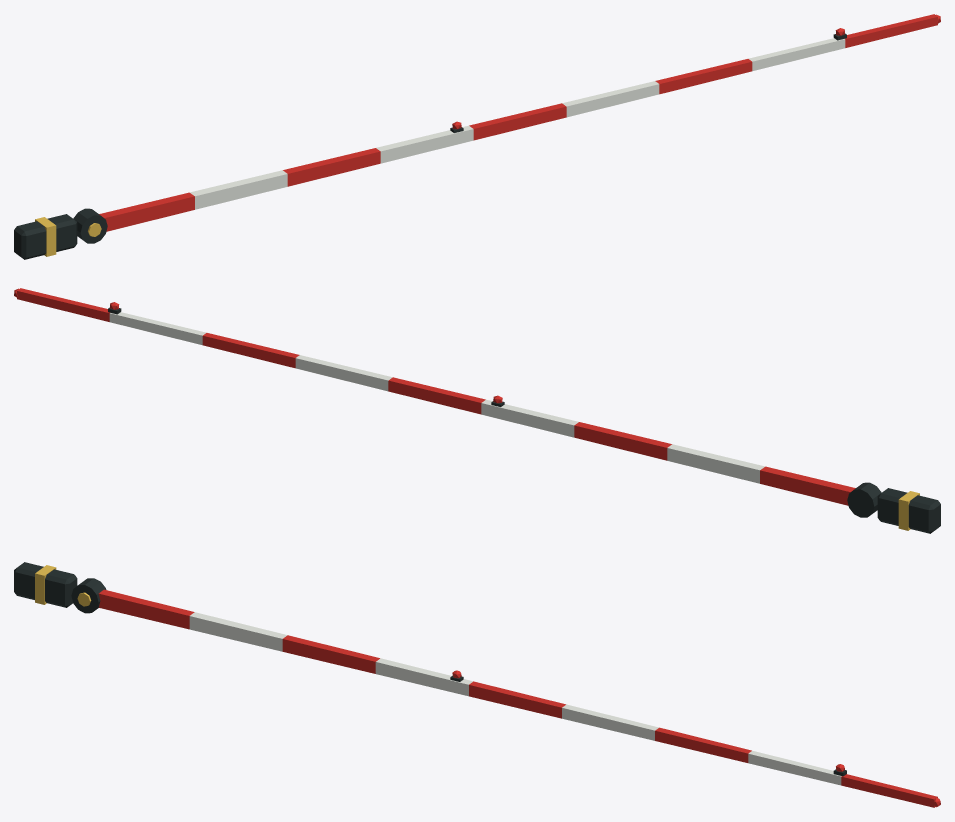
Rendered from sm_env_rail_barrier_arm.glb.
3 renders of one model, top to bottom at view 1: azimuth 30°, elevation 25°; view 2: azimuth 150°, elevation 25°; view 3: azimuth 330°, elevation 25°, orthographic.
Visible parts, largest first — view 1: Counterweight, ArmStripe, ArmStripe.001, ArmStripe.002, ArmStripe.003, ArmStripe.004, ArmStripe.005, ArmStripe.006, ArmStripe.007, ArmStripe.008, ArmHub; view 2: Counterweight, ArmStripe, ArmStripe.001, ArmStripe.002, ArmStripe.003, ArmStripe.004, ArmStripe.005, ArmStripe.006, ArmStripe.007, ArmStripe.008, ArmHub; view 3: ArmStripe, ArmStripe.001, Counterweight, ArmStripe.002, ArmStripe.003, ArmStripe.004, ArmStripe.005, ArmStripe.006, ArmStripe.007, ArmStripe.008, ArmHub.
Part boxes in pixels (x1,y1,x2,y2): Counterweight: (14,214,77,259); ArmStripe: (99,192,194,231); ArmStripe.001: (190,170,287,209); ArmStripe.002: (283,148,380,186); ArmStripe.003: (376,125,473,163); ArmStripe.004: (469,103,566,140); ArmStripe.005: (562,81,659,117); ArmStripe.006: (655,59,752,94); ArmStripe.007: (748,38,845,71); ArmStripe.008: (845,14,937,47); ArmHub: (73,208,107,243); Counterweight: (877,488,940,533); ArmStripe: (760,466,855,505); ArmStripe.001: (667,444,764,483); ArmStripe.002: (574,422,671,460); ArmStripe.003: (481,399,578,437); ArmStripe.004: (388,377,485,414); ArmStripe.005: (295,355,392,391); ArmStripe.006: (202,333,299,368); ArmStripe.007: (109,312,206,345); ArmStripe.008: (17,288,109,321); ArmHub: (847,482,881,517); ArmStripe: (98,589,194,629); ArmStripe.001: (189,612,287,651); Counterweight: (14,562,77,607); ArmStripe.002: (282,635,379,673); ArmStripe.003: (375,658,472,696); ArmStripe.004: (469,681,565,718); ArmStripe.005: (562,704,658,740); ArmStripe.006: (655,727,751,762); ArmStripe.007: (748,750,841,785); ArmStripe.008: (841,774,937,807); ArmHub: (71,578,106,613).
Size of the model in its own units: 11.55 by 0.355 by 0.25.
